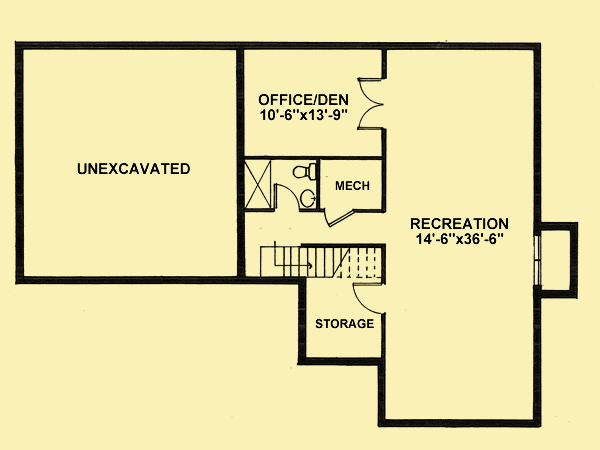door: (358, 76, 388, 132), (351, 281, 387, 315), (322, 205, 356, 230), (271, 181, 299, 210)
large_sink: (290, 160, 319, 181)
small_sink: (299, 186, 317, 207)
stairs: (259, 242, 381, 278)
window: (531, 231, 546, 285)
